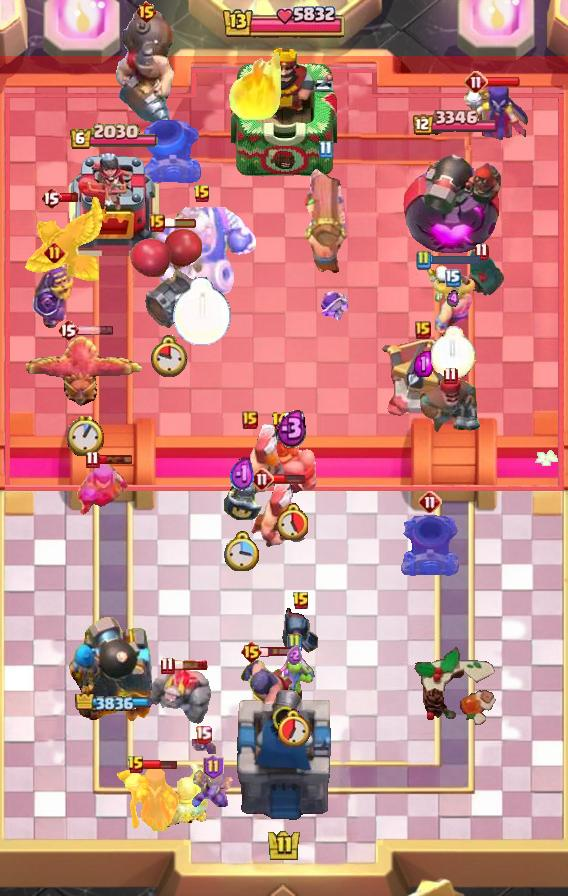bandit: (457, 250, 505, 296)
bar: (429, 254, 481, 266), (260, 646, 297, 658), (172, 659, 208, 671), (162, 217, 198, 229), (485, 76, 521, 88), (77, 325, 114, 336), (142, 759, 178, 770), (272, 473, 305, 485), (98, 454, 133, 465), (60, 192, 79, 203)
bar-level: (418, 490, 442, 514), (250, 467, 274, 491), (464, 70, 488, 94), (240, 640, 263, 664), (135, 0, 158, 24), (203, 754, 224, 780), (57, 318, 79, 342), (40, 186, 62, 210), (44, 242, 65, 263), (271, 411, 290, 431), (127, 755, 145, 775), (292, 591, 310, 611), (193, 184, 211, 204), (195, 725, 212, 744), (286, 633, 302, 653), (415, 250, 431, 270), (242, 411, 258, 429), (415, 321, 431, 339), (445, 269, 461, 287), (149, 214, 165, 232), (160, 656, 175, 675), (85, 450, 100, 469), (443, 366, 458, 385), (474, 242, 489, 261), (318, 140, 333, 159)
bat: (190, 735, 216, 754)
cannoneer-tower: (403, 138, 503, 256), (64, 615, 164, 731)
clock: (172, 277, 232, 347), (431, 326, 476, 378), (151, 335, 188, 377), (67, 415, 104, 456), (224, 531, 260, 571), (278, 709, 311, 747), (276, 503, 308, 540)
elite-barbarian: (431, 277, 475, 333)
elixir: (276, 408, 308, 448), (230, 456, 255, 494), (414, 351, 433, 377), (287, 645, 302, 665), (447, 290, 459, 308)
executioner: (238, 657, 294, 731)
goblin: (273, 652, 315, 704)
golemite: (144, 664, 212, 724)
guard: (221, 466, 263, 524)
hunter: (416, 378, 484, 436)
king-tower: (231, 43, 337, 181), (232, 686, 336, 826)
king-tower-bar: (221, 3, 347, 43)
knight: (150, 764, 213, 828)
knight-evolution: (33, 259, 75, 329)
lumberjack: (250, 477, 308, 549), (235, 424, 293, 496)
mini-pekka: (280, 604, 322, 658)
minion: (191, 769, 235, 815)
mortar: (399, 512, 461, 580), (143, 119, 203, 183)
mother-witch: (75, 458, 131, 518)
queen-tower: (69, 152, 159, 256)
ram-rider: (262, 420, 322, 494)
skeleton: (420, 258, 456, 302)
skeleton-evolution: (319, 290, 351, 324)
tower-bar: (69, 123, 159, 151), (410, 110, 497, 137), (75, 694, 153, 711)
witch: (455, 81, 531, 143), (116, 765, 180, 831)
